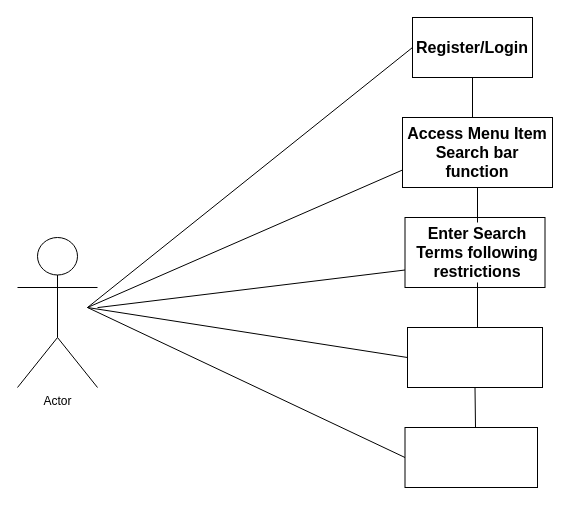
This 570x505 diagram has some shape labels left out. The shapes that lost their labels are listed below. From the top down, each one's centre as x and y in pixels, then its label:
At point (474, 357): "Browse results".
At point (471, 457): "Read Menu Item Nutritional Information".
